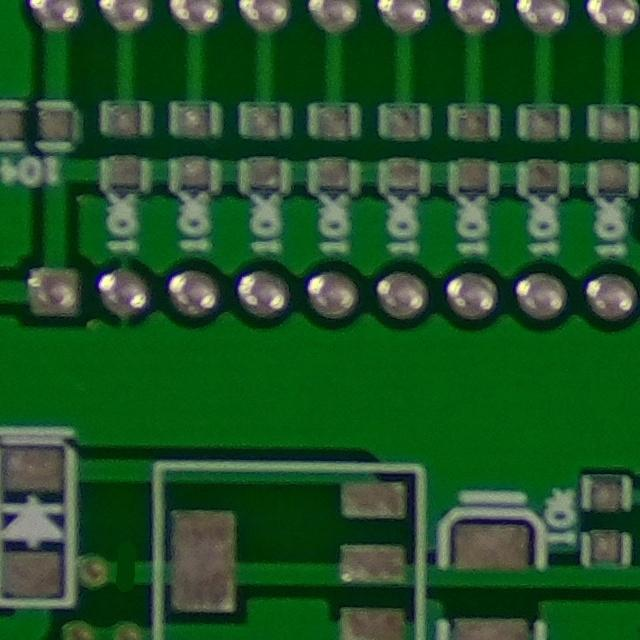open_circuit: (108, 548, 149, 601)
